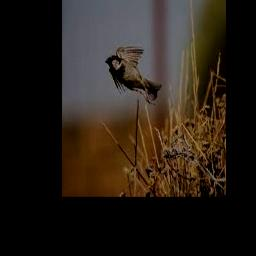Sparrow: (105, 45, 162, 105)
